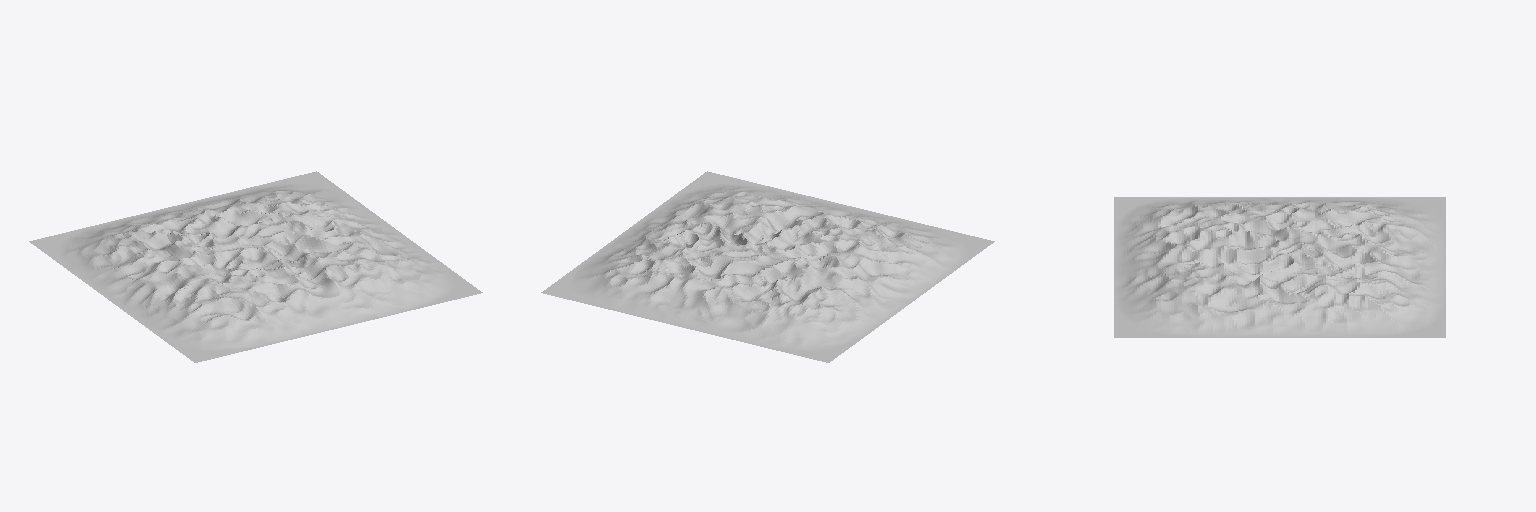
File: Dunes1.obj
The picture shows the model from 3 angles: view 1: azimuth 30°, elevation 25°; view 2: azimuth 150°, elevation 25°; view 3: azimuth 270°, elevation 25°; orthographic projection.
Visible parts, largest first — view 1: Landscape.001; view 2: Landscape.001; view 3: Landscape.001.
Part boxes in pixels (x1,y1,x2,y2): Landscape.001: (29, 171, 482, 362); Landscape.001: (541, 171, 994, 362); Landscape.001: (1114, 197, 1445, 337).
Size of the model in its own units: 8 by 0.5981 by 8.